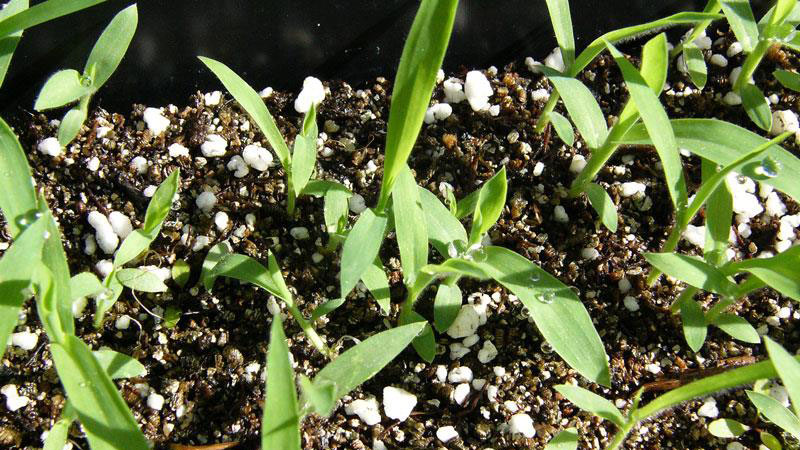crabgrass: (557, 16, 800, 386), (295, 107, 561, 343), (1, 124, 151, 450)
